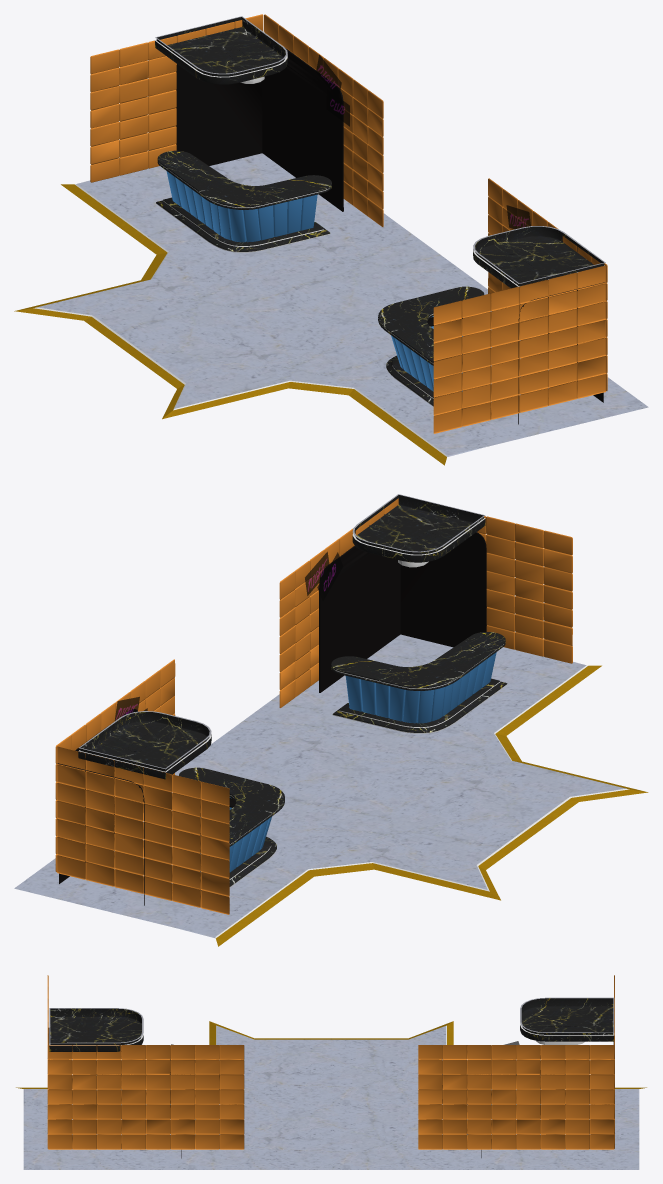
File: BarStatic 1.fbx
3 renders of one model, top to bottom at view 1: azimuth 30°, elevation 25°; view 2: azimuth 150°, elevation 25°; view 3: azimuth 270°, elevation 25°, orthographic. The views are drawn at different scales.
Visible parts, largest first — view 1: Plane.020, Plane.154, Plane.405, Plane.361, BarCounter, Plane.360, BarLamp, BarLamp.001, BarCounter.001, Plane.153; view 2: Plane.020, Plane.361, Plane.198, Plane.154, BarCounter.001, BarLamp, Plane.153, BarLamp.001, BarCounter, Plane.360; view 3: Plane.020, Plane.360, Plane.153, BarLamp, BarLamp.001.
Part boxes in pixels (x1,y1,x2,y2): Plane.020: [14, 153, 648, 465]; Plane.154: [433, 265, 606, 433]; Plane.405: [176, 47, 343, 211]; Plane.361: [90, 14, 263, 182]; BarCounter: [156, 150, 331, 252]; Plane.360: [264, 14, 383, 226]; BarLamp: [155, 16, 287, 84]; BarLamp.001: [473, 226, 605, 288]; BarCounter.001: [378, 286, 484, 409]; Plane.153: [488, 178, 607, 390]; Plane.020: [14, 634, 648, 946]; Plane.361: [56, 746, 229, 914]; Plane.198: [319, 532, 486, 692]; Plane.154: [477, 516, 572, 663]; BarCounter.001: [331, 632, 507, 733]; BarLamp: [78, 711, 211, 779]; Plane.153: [279, 498, 398, 707]; BarLamp.001: [352, 494, 485, 567]; BarCounter: [179, 767, 284, 890]; Plane.360: [55, 659, 175, 871]; Plane.020: [16, 1021, 646, 1169]; Plane.360: [418, 1045, 614, 1149]; Plane.153: [48, 1045, 244, 1149]; BarLamp: [520, 997, 614, 1044]; BarLamp.001: [49, 1008, 143, 1051].
Bounding box in the file's own units: 859 × 316 × 1524.
7 materials, 5 textured.
